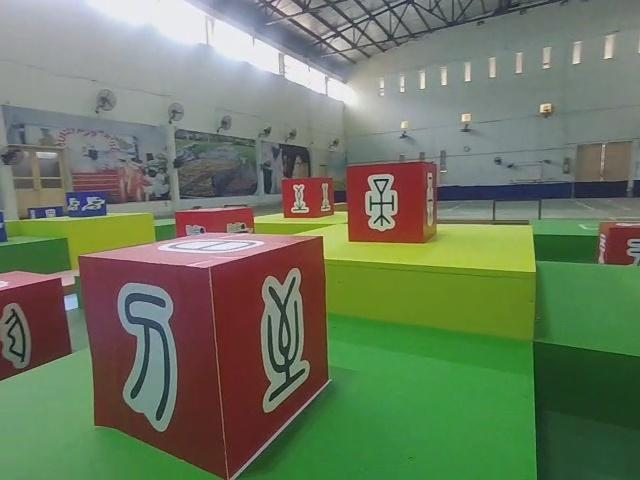R2 Fake: (76, 230, 332, 480)
R2 Real: (0, 268, 77, 384), (343, 158, 442, 245), (280, 174, 338, 221)
